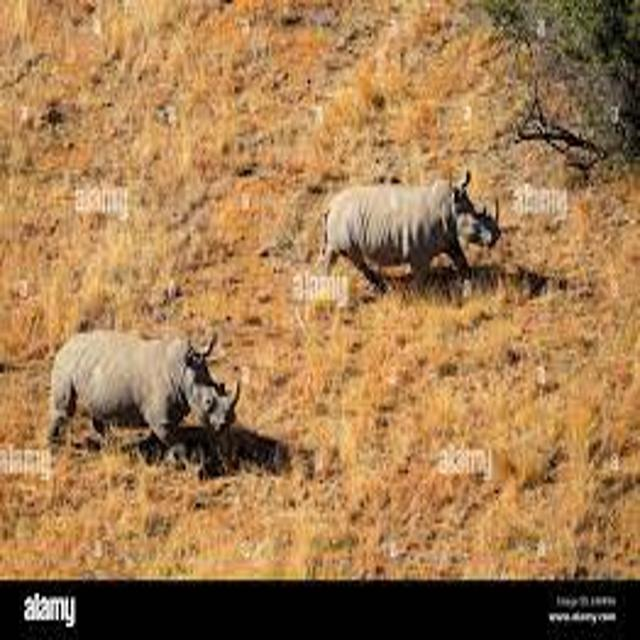rhino: (20, 289, 280, 492), (284, 147, 542, 326)
